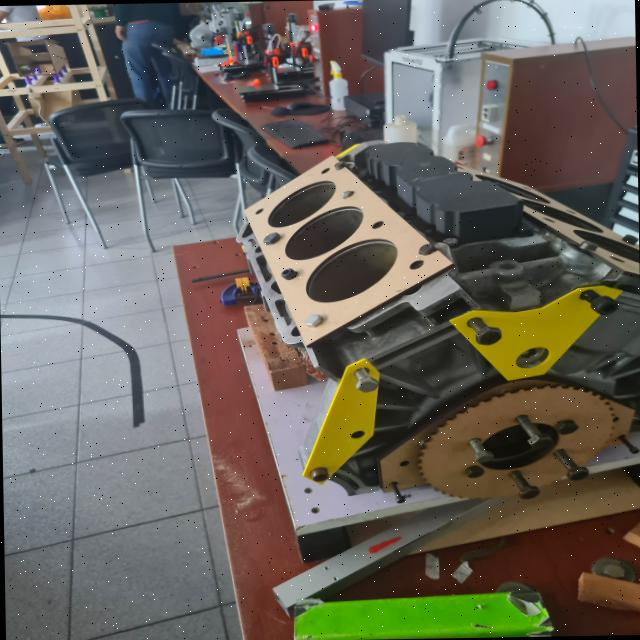tor_v1: (243, 155, 452, 345)
